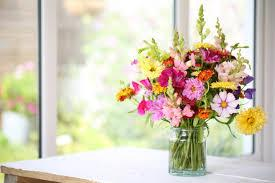flower: (117, 3, 264, 134)
vase: (169, 127, 205, 176)
window: (0, 0, 255, 157)
